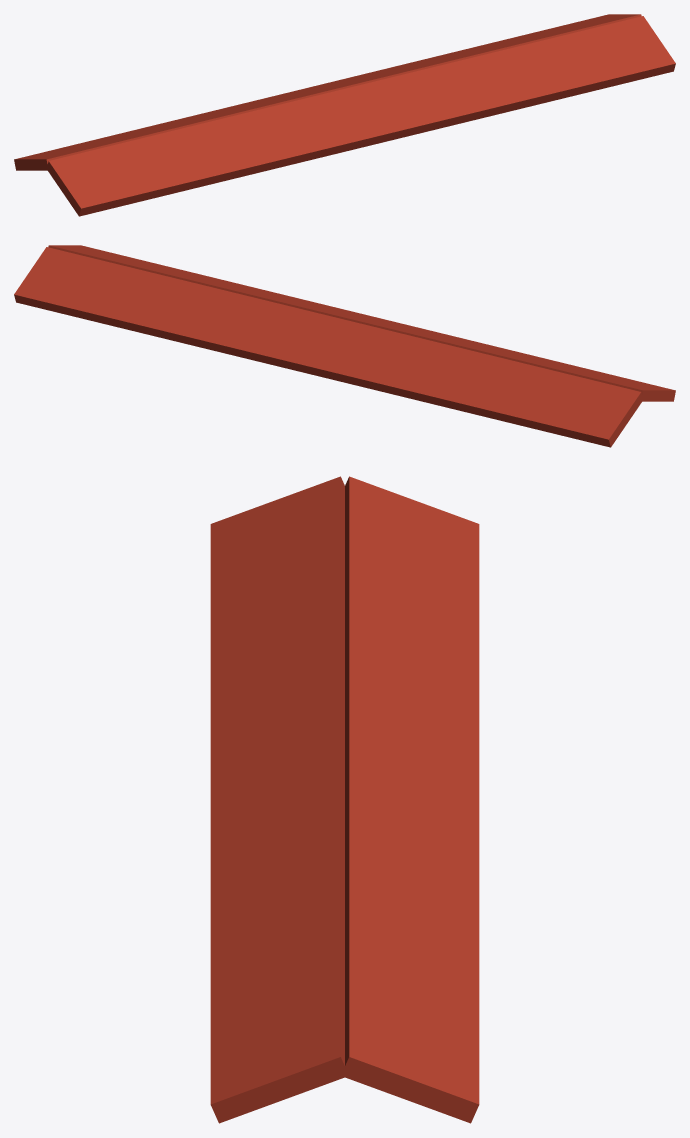
File: CrestRoof.fbx
3 renders of one model, top to bottom at view 1: azimuth 30°, elevation 25°; view 2: azimuth 150°, elevation 25°; view 3: azimuth 270°, elevation 25°, orthographic. The views are drawn at different scales.
Visible parts, largest first — view 1: CrestRoof_-1.001; view 2: CrestRoof_-1.001; view 3: CrestRoof_-1.001.
Boxes of the visible parts, x1,y1,x2,y2 form: CrestRoof_-1.001: [14, 14, 675, 216]; CrestRoof_-1.001: [14, 245, 675, 447]; CrestRoof_-1.001: [210, 476, 479, 1123].
Bounding box in the file's own units: 3640 × 195 × 712.
